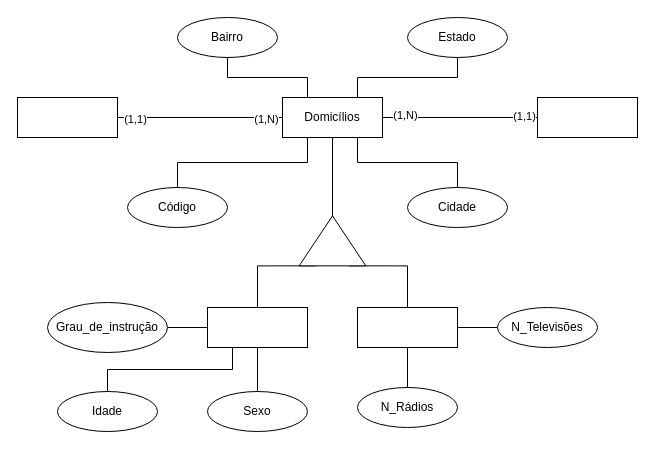
This 655x449 diagram has some shape labels left out. Each missing label, with the box of its shape:
Domicílios Particulares: (356, 306, 458, 348)
Domicílios Públicos: (206, 306, 308, 348)
Entrevistadores: (536, 96, 638, 138)
Municípios: (16, 96, 118, 138)
